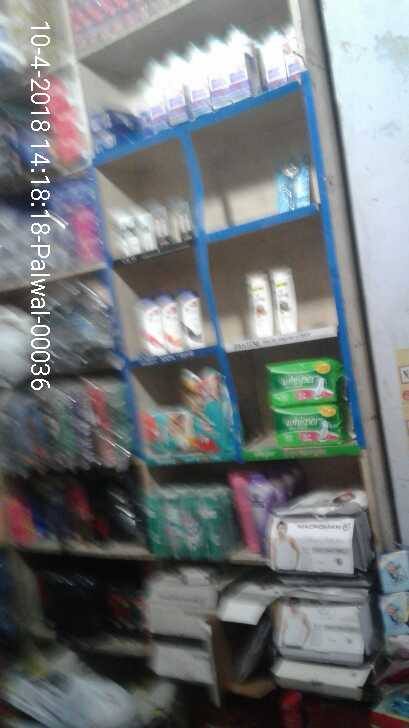venus: (277, 150, 311, 215)
